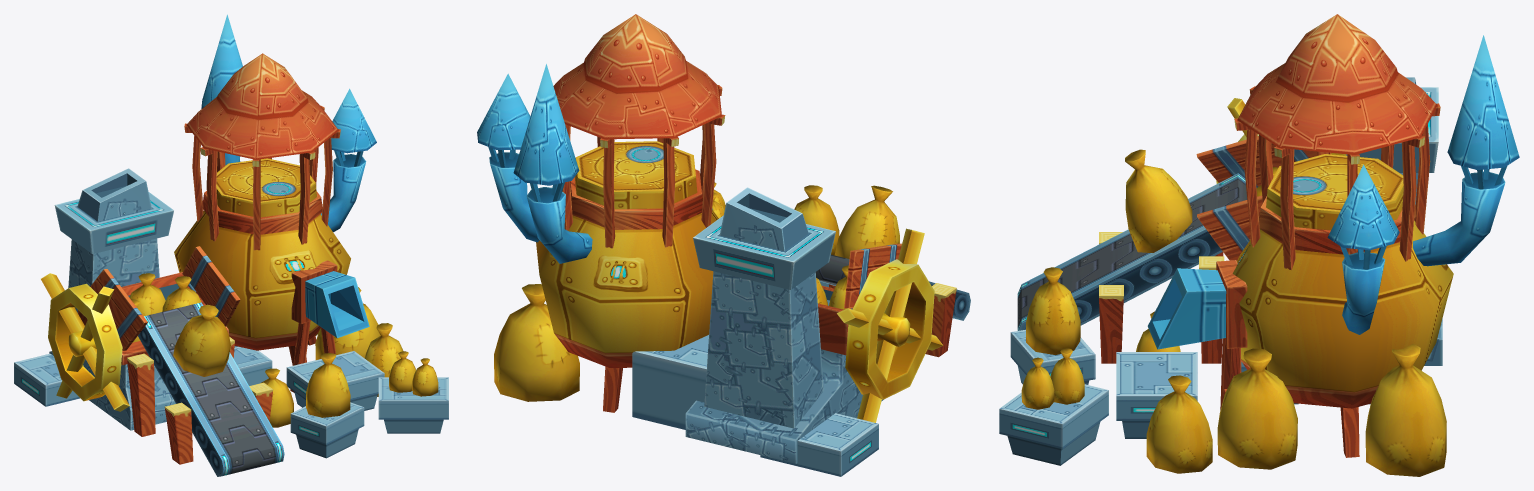
The model's file is lsjgc.FBX.
3 views of the same model, side by side, from view 1: azimuth 30°, elevation 25°; view 2: azimuth 150°, elevation 25°; view 3: azimuth 270°, elevation 25° (orthographic). The views are drawn at different scales.
Visible parts, largest first — view 1: lsjgc; view 2: lsjgc; view 3: lsjgc.
Boxes of the visible parts, x1=… form: lsjgc: x1=14, y1=14, x2=448, y2=476; lsjgc: x1=477, y1=14, x2=970, y2=476; lsjgc: x1=999, y1=14, x2=1519, y2=476.
Size of the model in its own units: 541 by 483 by 555.
